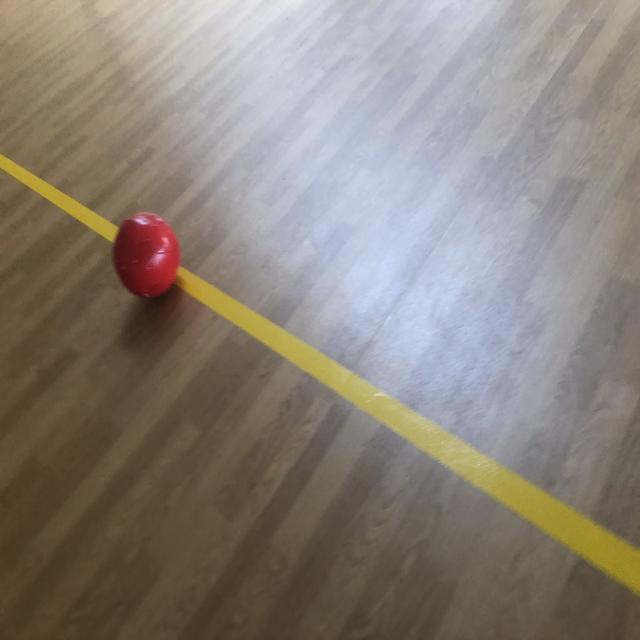red_ball: (114, 211, 180, 299)
